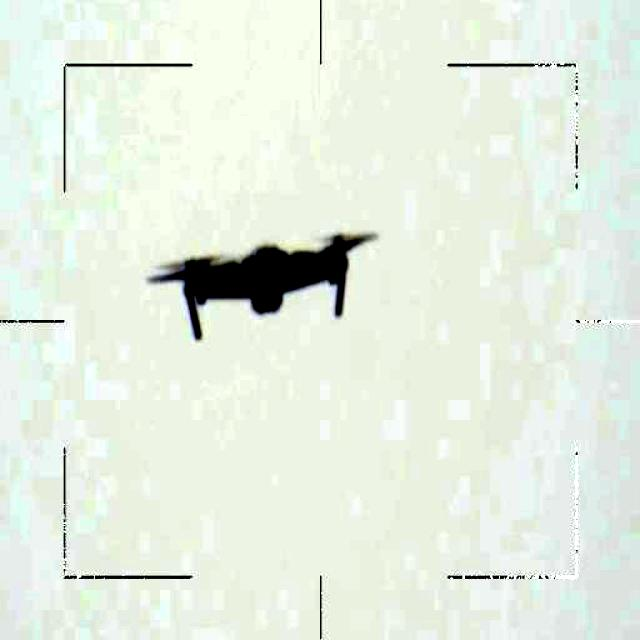bird: (144, 222, 390, 345)
